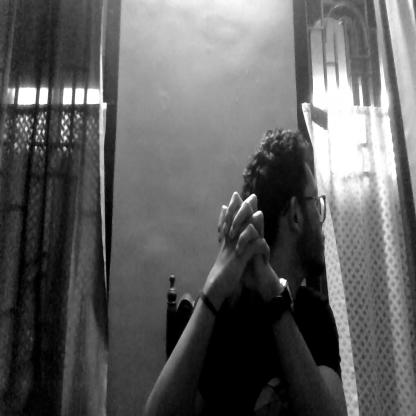Distracted: (249, 127, 334, 288)
